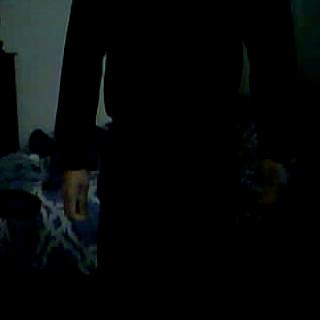Navy Sweatpants: (97, 165, 232, 319)
